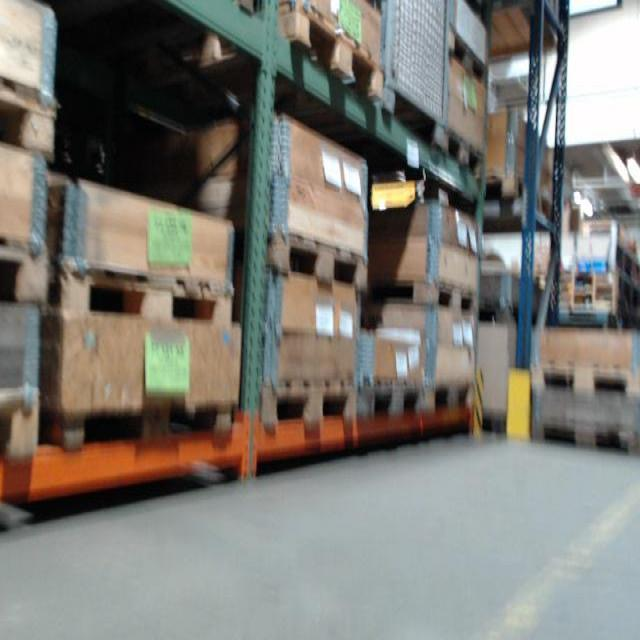pallet: (45, 251, 235, 328), (280, 1, 387, 106), (260, 233, 367, 290), (528, 410, 638, 462), (259, 371, 357, 428), (2, 66, 60, 154), (528, 355, 638, 401), (357, 375, 427, 441), (368, 275, 476, 317), (0, 376, 46, 467), (0, 228, 48, 307), (442, 116, 489, 181), (424, 376, 477, 424)
stillage: (372, 0, 456, 158)
